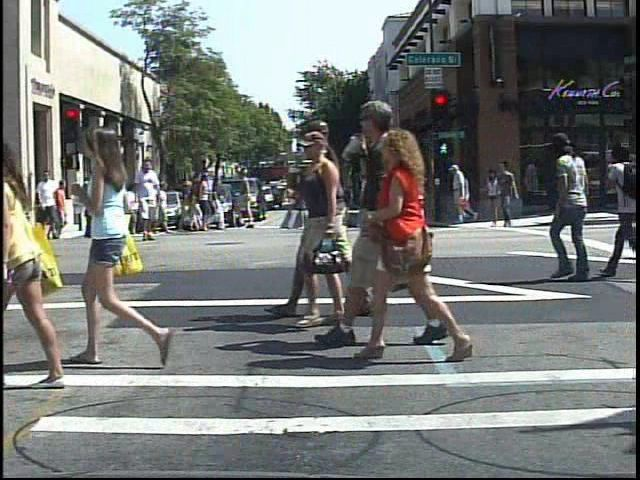person: (324, 88, 446, 348), (359, 117, 472, 362), (71, 113, 168, 376), (0, 130, 68, 390), (545, 130, 596, 280), (131, 160, 165, 243), (89, 162, 119, 241), (35, 167, 64, 244), (451, 163, 474, 226), (12, 181, 34, 242), (93, 181, 113, 220)
